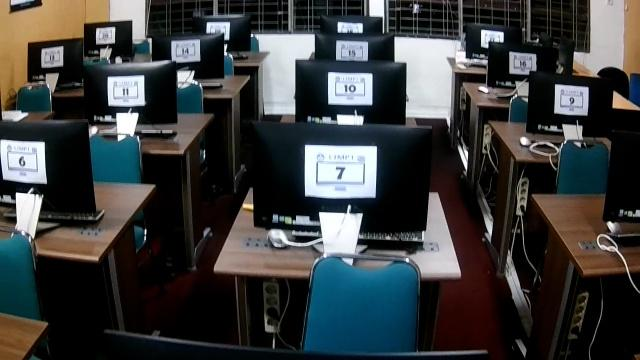AIO PC-Monitor-TV: (249, 119, 433, 259), (0, 119, 96, 234), (294, 58, 406, 126), (83, 59, 177, 125), (526, 70, 613, 140)
Meja: (209, 188, 463, 279), (0, 181, 156, 262), (531, 191, 639, 277), (488, 119, 613, 164), (86, 111, 217, 152)
